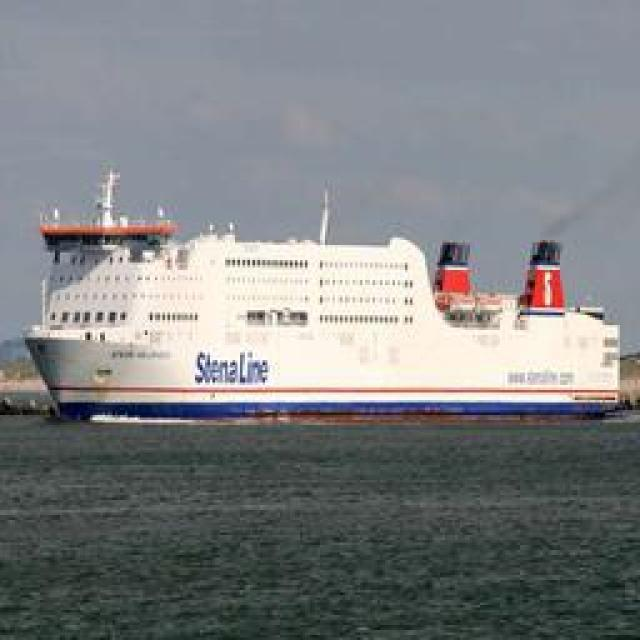ship2: (22, 171, 626, 427)
